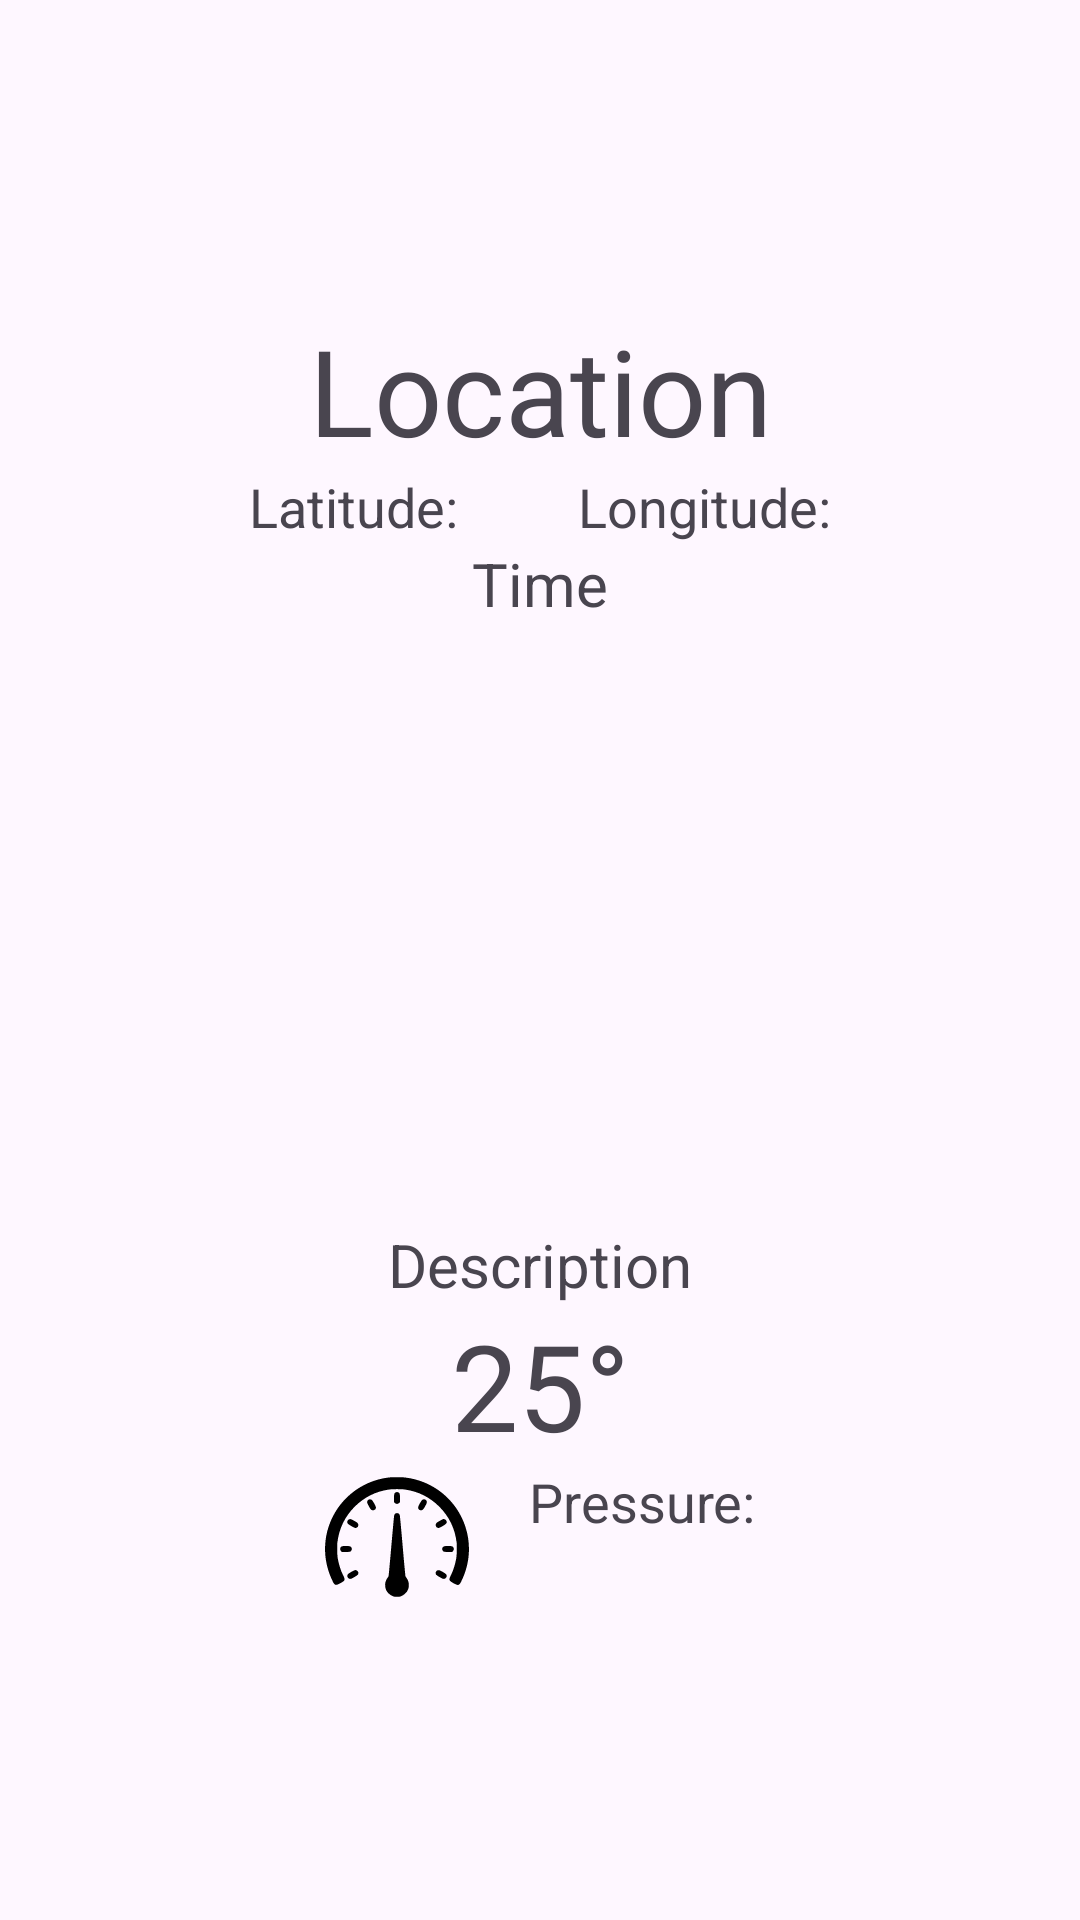

Icons on this 1080 × 1920 Android screen, each with its box as (x1, y1, x2, y2):
barometr: (325, 1477, 469, 1597)
